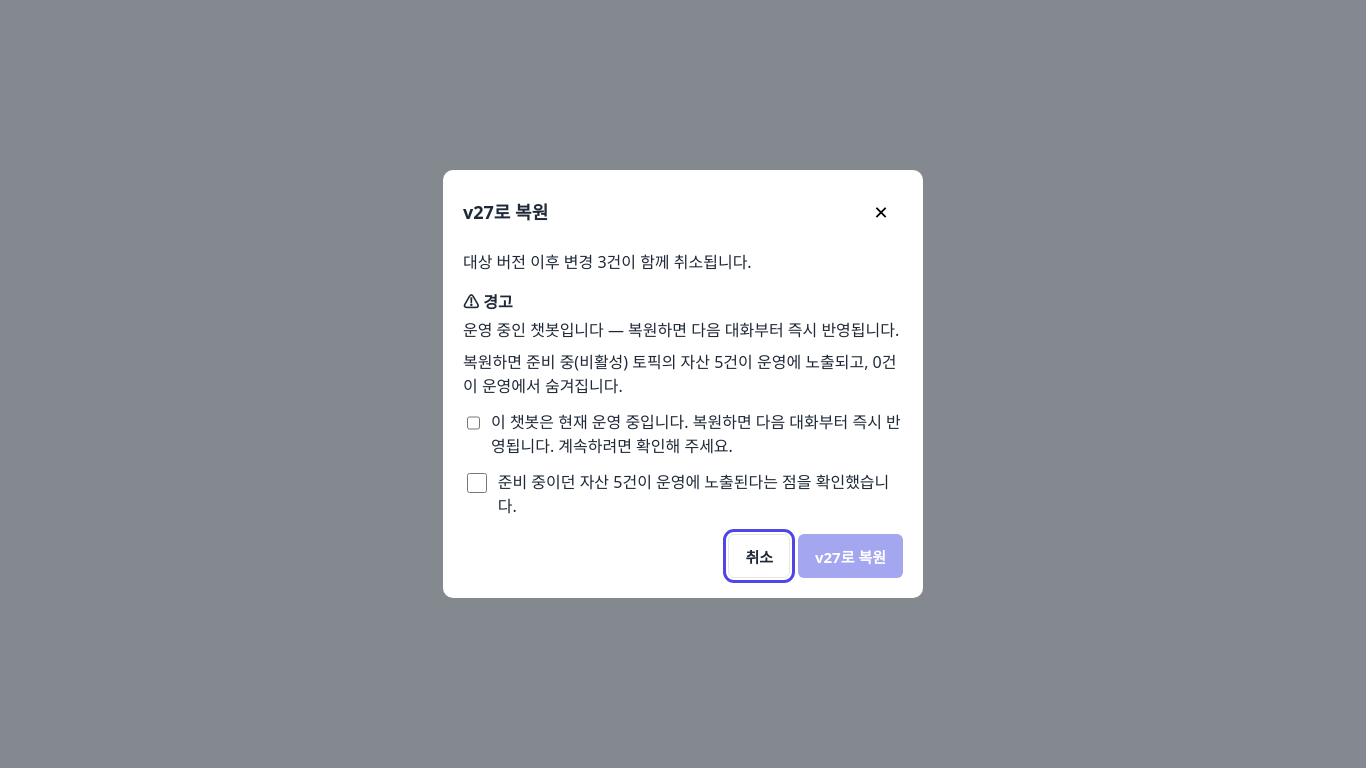
Test case: RestoreDialog › ACTIVE_CHATBOT과 TOPIC_EXPOSURE_CHANGE가 둘 다 있으면 둘 다 체크해야 확정 버튼이 활성화된다
Check: the button "v27로 복원" is disabled, box [798,534,903,578]
Step 1. Click the checkbox labelled "이 챗봇은 현재 운영 중입니다. 복원하면 다음 대화부터 즉시 반영됩니다. 계속하려면 확인해 주세요." → (474, 423), box [467,413,480,433]
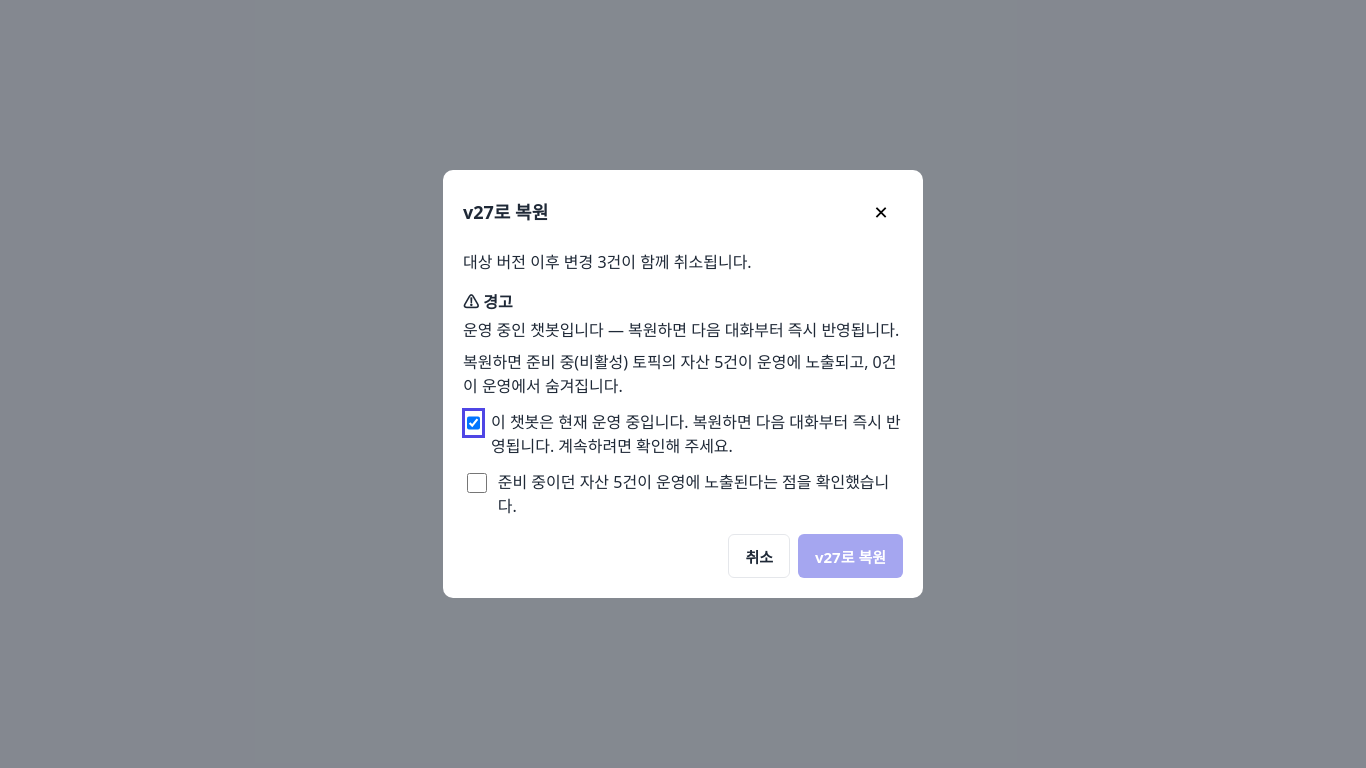
Check: the button "v27로 복원" is disabled, box [798,534,903,578]
Step 2. Click the checkbox labelled "준비 중이던 자산 5건이 운영에 노출된다는 점을 확인했습니다." → (477, 483), box [467,473,487,493]
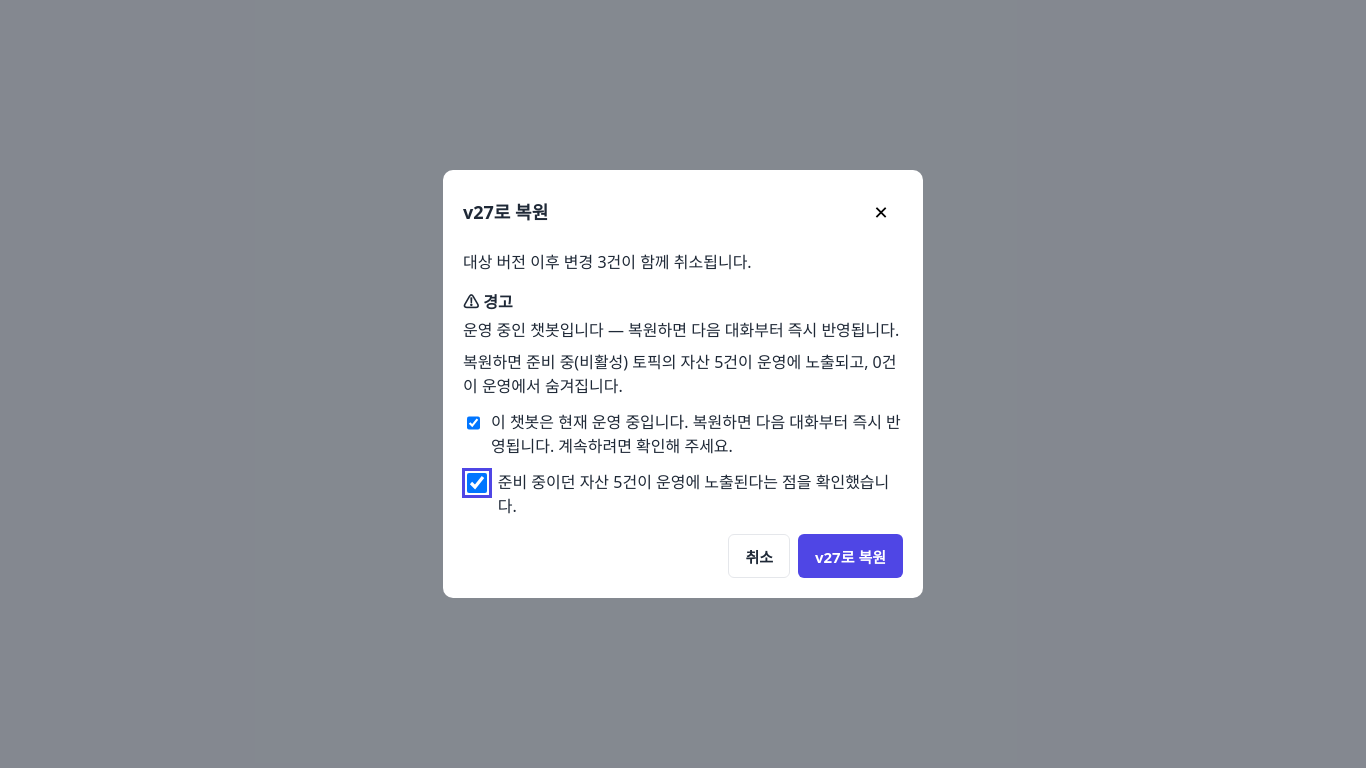
Check: the button "v27로 복원" is enabled, box [798,534,903,578]
